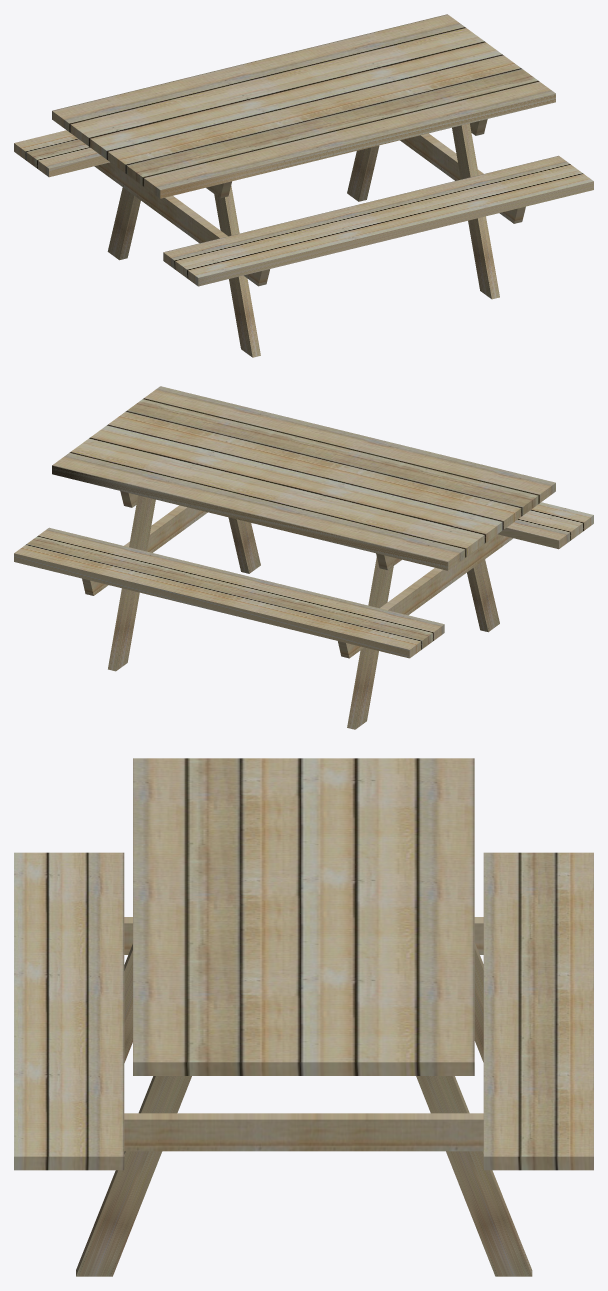
Rendered from table.glb.
3 views of the same model, one above another, from view 1: azimuth 30°, elevation 25°; view 2: azimuth 150°, elevation 25°; view 3: azimuth 270°, elevation 25° (orthographic). The views are drawn at different scales.
Visible parts, largest first — view 1: picnic_table; view 2: picnic_table; view 3: picnic_table.
Part boxes in pixels (box(x1,y1,x2,y2)): picnic_table: box(14, 14, 593, 357); picnic_table: box(14, 386, 593, 729); picnic_table: box(14, 758, 593, 1276).
Size of the model in its own units: 2.4 by 1 by 1.94.
Materials: 1 (1 with a texture image).
